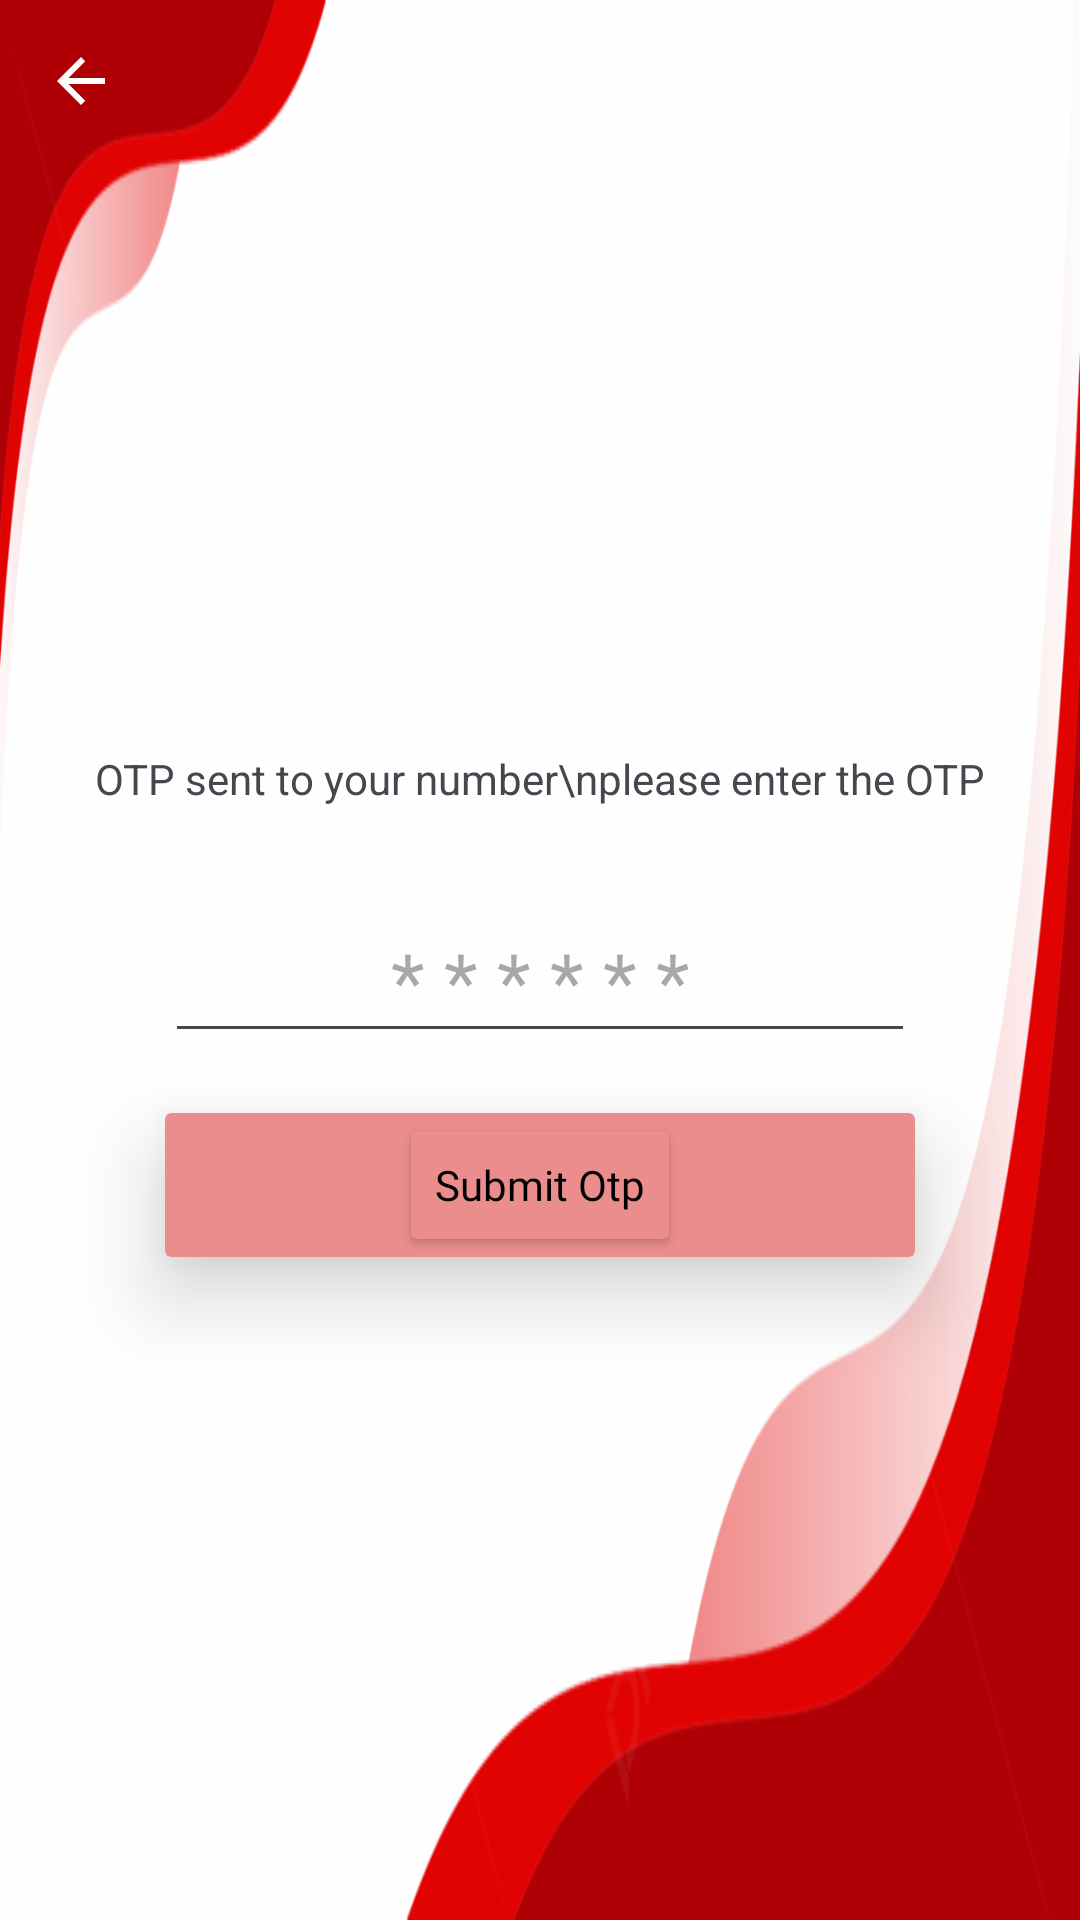

Icons on this 1080px×1920px Android screen, each with the point to tap as [x,y]:
arrow back: [81,81]
